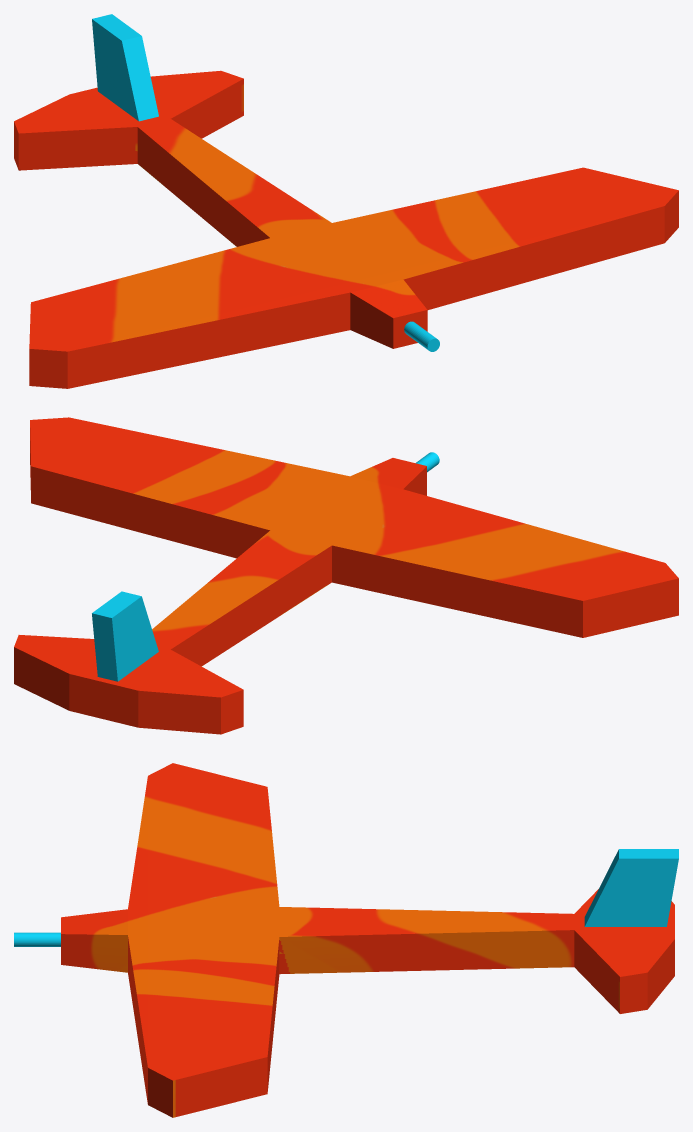
File: jet.glb
3 views of the same model, one above another, from view 1: azimuth 30°, elevation 25°; view 2: azimuth 150°, elevation 25°; view 3: azimuth 270°, elevation 25° (orthographic).
Visible parts, largest first — view 1: Cube, Cube.001; view 2: Cube, Cube.001; view 3: Cube, Cube.001.
Part boxes in pixels (x1,y1,x2,y2): Cube: (14,70,678,388); Cube.001: (92,14,439,351); Cube: (14,417,678,734); Cube.001: (92,452,439,681); Cube: (61,763,674,1117); Cube.001: (14,849,678,946).
Size of the model in its own units: 1.68 by 0.2615 by 1.49.
Materials: 2 (2 with a texture image).
